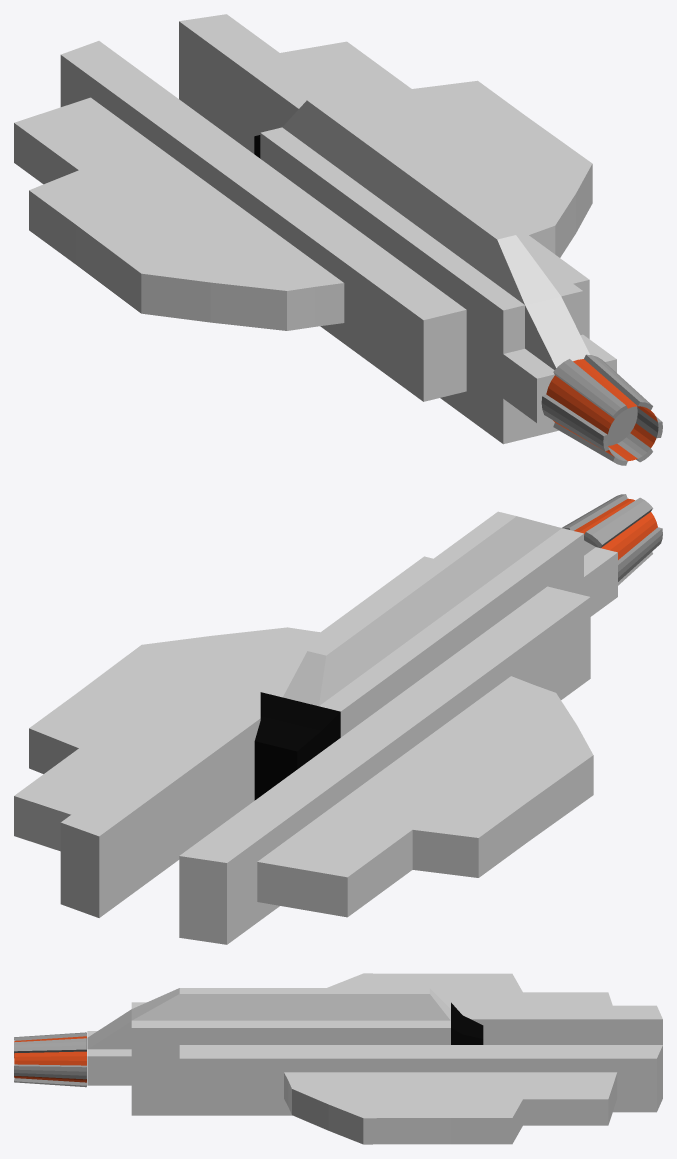
File: ShipM4.fbx
3 views of the same model, one above another, from view 1: azimuth 30°, elevation 25°; view 2: azimuth 150°, elevation 25°; view 3: azimuth 270°, elevation 25° (orthographic). The views are drawn at different scales.
Visible parts, largest first — view 1: Cube, Cylinder; view 2: Cube, Cylinder; view 3: Cube, Cylinder.
Part boxes in pixels (<box>): Cube: <box>14,14,616,444</box>; Cylinder: <box>541,354,662,465</box>; Cube: <box>14,511,617,944</box>; Cylinder: <box>562,494,662,585</box>; Cube: <box>87,973,662,1144</box>; Cylinder: <box>14,1032,86,1087</box>.
Bounding box in the file's own units: 706 × 255 × 1338.
